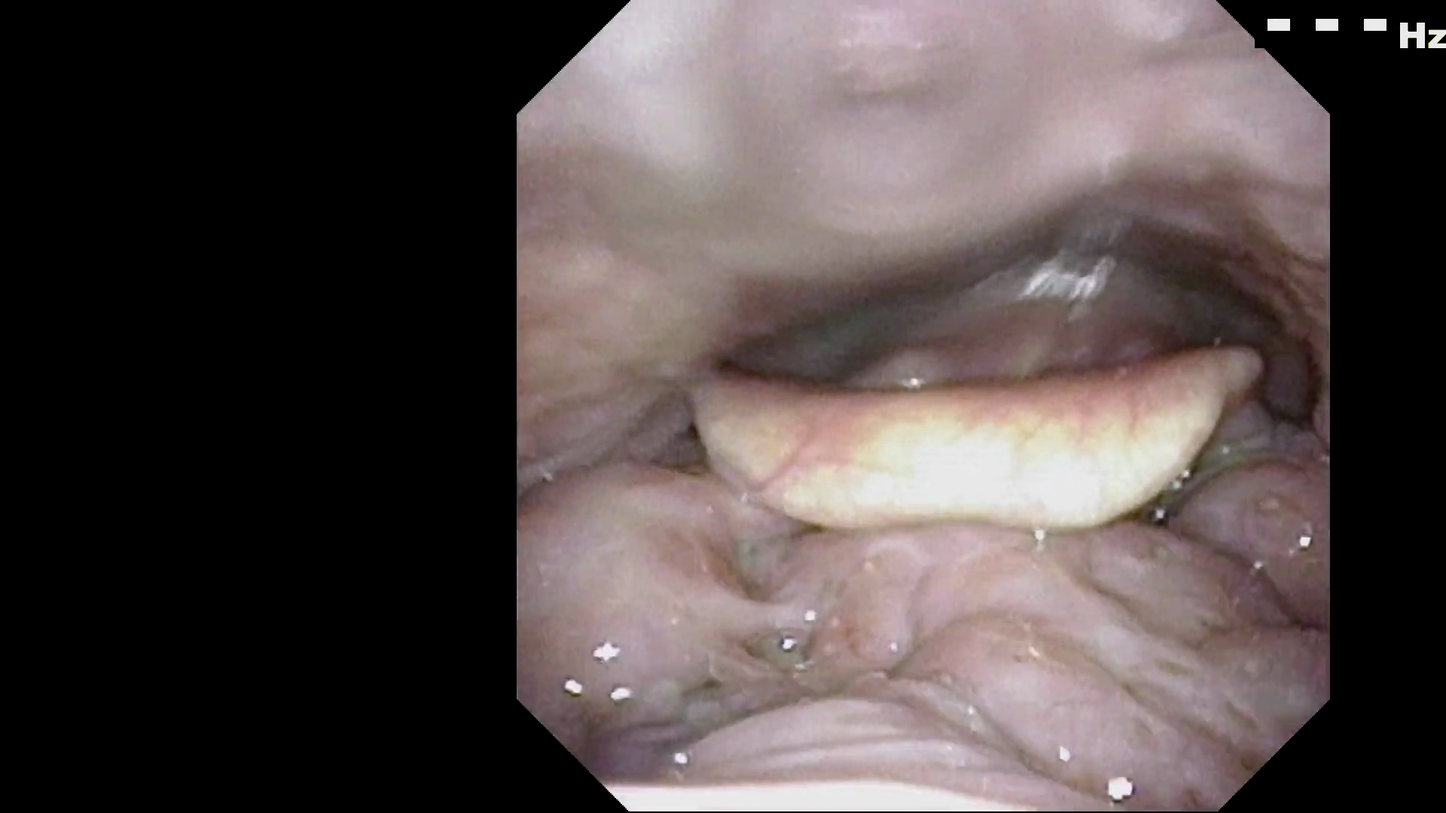epiglottis: (685, 346, 1276, 539)
